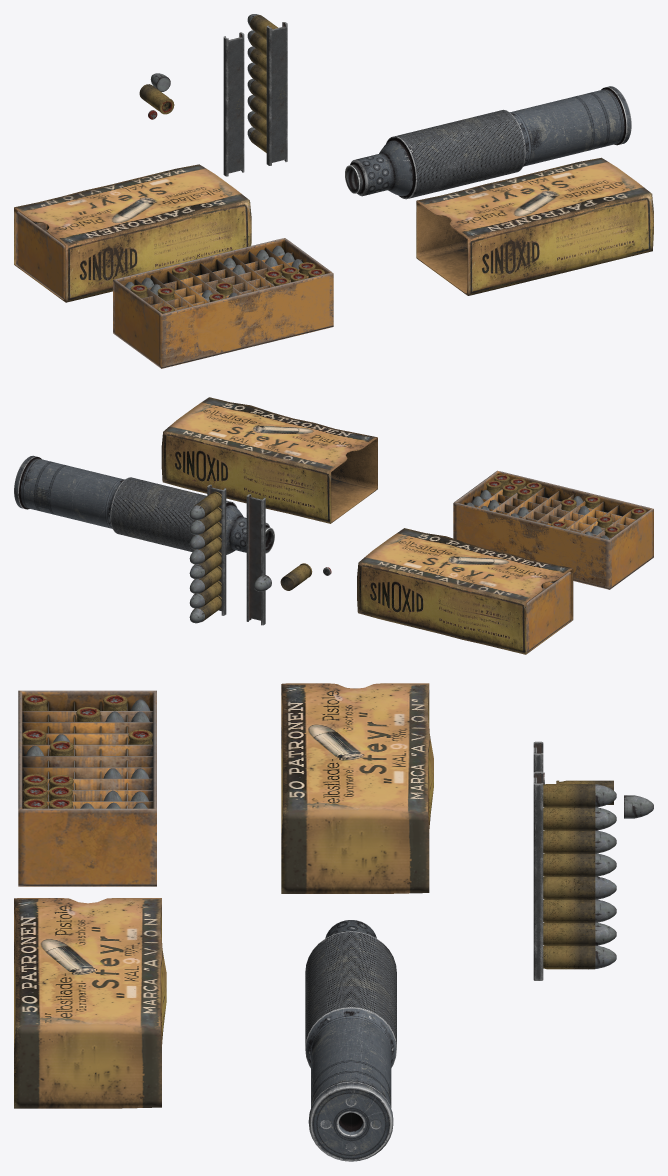
The model's file is steyr_m1912_-_additional_props.glb.
The picture shows the model from 3 angles, top to bottom: view 1: azimuth 30°, elevation 25°; view 2: azimuth 150°, elevation 25°; view 3: azimuth 270°, elevation 25°; orthographic projection. The views are drawn at different scales.
Parts seen in each view (by area): view 1: box._low.001_3, box._low_1, case_low.001_4, silencer_0, clip.001_41, clip_40, case_low_2, bullet_low.003_8; view 2: box._low.001_3, box._low_1, case_low.001_4, silencer_0, case_low_2, clip.001_41, clip_40, bullet_low_5, bullet_low.003_8, bullet_low.010_15, bullet_low.006_11, bullet_low.005_10 (+4 smaller); view 3: box._low_1, box._low.001_3, case_low.001_4, silencer_0, clip_40, bullet_low_5, bullet_low.008_13, bullet_low.010_15, bullet_low.009_14, bullet_low.006_11, bullet_low.007_12, bullet_low.004_9 (+1 smaller).
Boxes of the visible parts, x1=… form: box._low.001_3: x1=416, y1=157, x2=653, y2=295; box._low_1: x1=14, y1=164, x2=251, y2=302; case_low.001_4: x1=113, y1=238, x2=333, y2=368; silencer_0: x1=345, y1=86, x2=631, y2=199; clip.001_41: x1=223, y1=32, x2=244, y2=176; clip_40: x1=266, y1=22, x2=287, y2=165; case_low_2: x1=16, y1=211, x2=65, y2=299; bullet_low.003_8: x1=139, y1=84, x2=174, y2=114; box._low.001_3: x1=161, y1=397, x2=377, y2=523; box._low_1: x1=357, y1=528, x2=573, y2=654; case_low.001_4: x1=453, y1=470, x2=653, y2=589; silencer_0: x1=14, y1=455, x2=274, y2=554; case_low_2: x1=526, y1=571, x2=571, y2=652; clip.001_41: x1=246, y1=494, x2=265, y2=625; clip_40: x1=207, y1=484, x2=226, y2=615; bullet_low_5: x1=189, y1=491, x2=221, y2=520; bullet_low.003_8: x1=280, y1=563, x2=312, y2=590; bullet_low.010_15: x1=189, y1=595, x2=221, y2=623; bullet_low.006_11: x1=189, y1=536, x2=221, y2=564; bullet_low.005_10: x1=189, y1=522, x2=221, y2=549; box._low_1: x1=281, y1=683, x2=433, y2=893; box._low.001_3: x1=14, y1=898, x2=166, y2=1108; case_low.001_4: x1=18, y1=690, x2=156, y2=886; silencer_0: x1=305, y1=920, x2=396, y2=1161; clip_40: x1=533, y1=771, x2=543, y2=980; bullet_low_5: x1=543, y1=783, x2=616, y2=807; bullet_low.008_13: x1=543, y1=899, x2=616, y2=923; bullet_low.010_15: x1=543, y1=945, x2=616, y2=969; bullet_low.009_14: x1=543, y1=922, x2=616, y2=946; bullet_low.006_11: x1=543, y1=853, x2=616, y2=877; bullet_low.007_12: x1=543, y1=876, x2=616, y2=900; bullet_low.004_9: x1=543, y1=807, x2=616, y2=830.
Bounding box in the file's own units: 47.91 × 10.98 × 32.32.
Materials: 4 (4 with a texture image).
